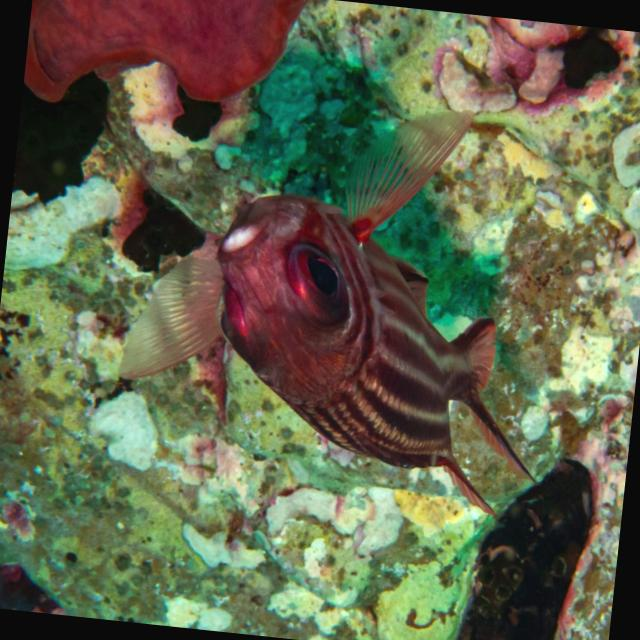Asker Baligi: (105, 74, 577, 526)
